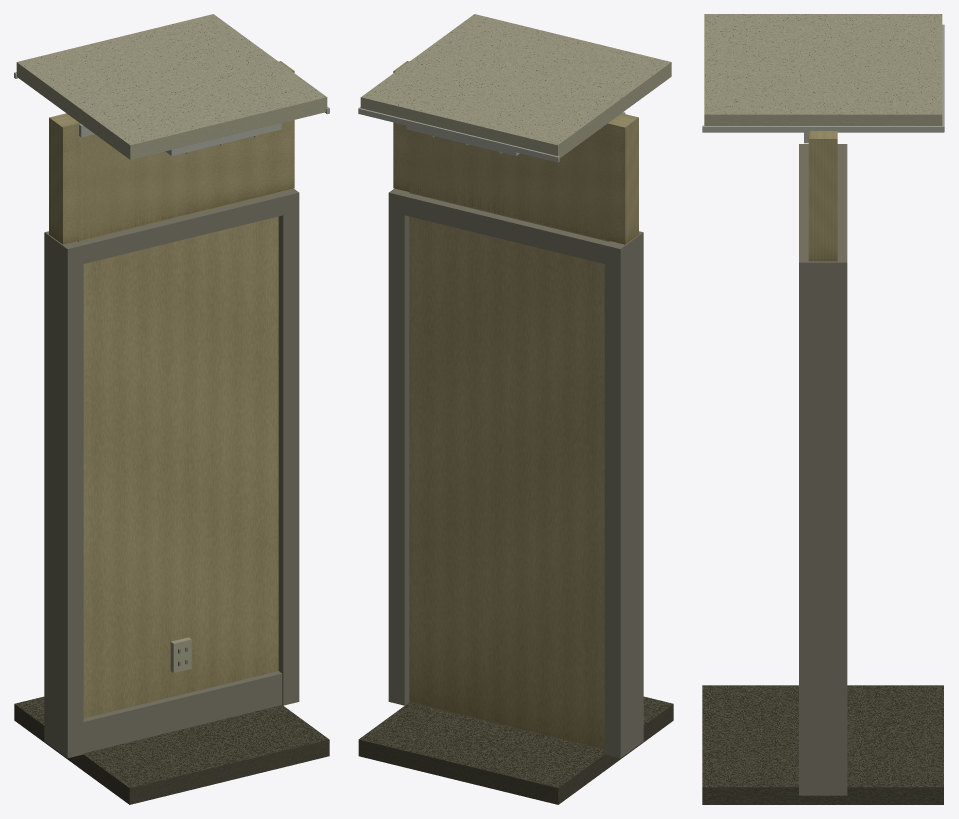
File: office-kit.glb
The picture shows the model from 3 angles, left to right: view 1: azimuth 30°, elevation 25°; view 2: azimuth 150°, elevation 25°; view 3: azimuth 270°, elevation 25°; orthographic projection. The views are drawn at different scales.
Visible parts, largest first — view 1: Painted_panel, Acoustic_tile, Door_jamb, Transom, Carpet, Door_jamb.001, Rubber_baseboard, Door_header, Recessed_housing, Outlet_plate; view 2: Painted_panel, Acoustic_tile, Door_jamb, Transom, Carpet, Door_jamb.001, Door_header, Grid_X; view 3: Acoustic_tile, Door_jamb.001, Carpet, Transom, Door_header, Grid_Y.
Part boxes in pixels (x1,y1,x2,y2): Painted_panel: [76, 121, 278, 718]; Acoustic_tile: [16, 14, 327, 159]; Door_jamb: [44, 240, 83, 758]; Transom: [49, 61, 294, 244]; Carpet: [14, 696, 329, 804]; Door_jamb.001: [278, 201, 299, 705]; Rubber_baseboard: [83, 671, 282, 753]; Door_header: [44, 188, 299, 267]; Recessed_housing: [165, 123, 281, 155]; Outlet_plate: [170, 637, 191, 672]; Painted_panel: [409, 125, 609, 749]; Acoustic_tile: [360, 14, 671, 158]; Door_jamb: [604, 244, 643, 758]; Transom: [393, 61, 638, 244]; Carpet: [358, 696, 673, 804]; Door_jamb.001: [388, 200, 409, 705]; Door_header: [388, 188, 643, 267]; Grid_X: [358, 107, 559, 162]; Acoustic_tile: [704, 14, 942, 125]; Door_jamb.001: [799, 270, 847, 795]; Carpet: [702, 685, 943, 804]; Transom: [808, 131, 837, 261]; Door_header: [799, 144, 847, 282]; Grid_Y: [702, 125, 943, 132].
Bounding box in the file's own units: 1.16 × 3.15 × 1.
Materials: 6 (3 with a texture image).
